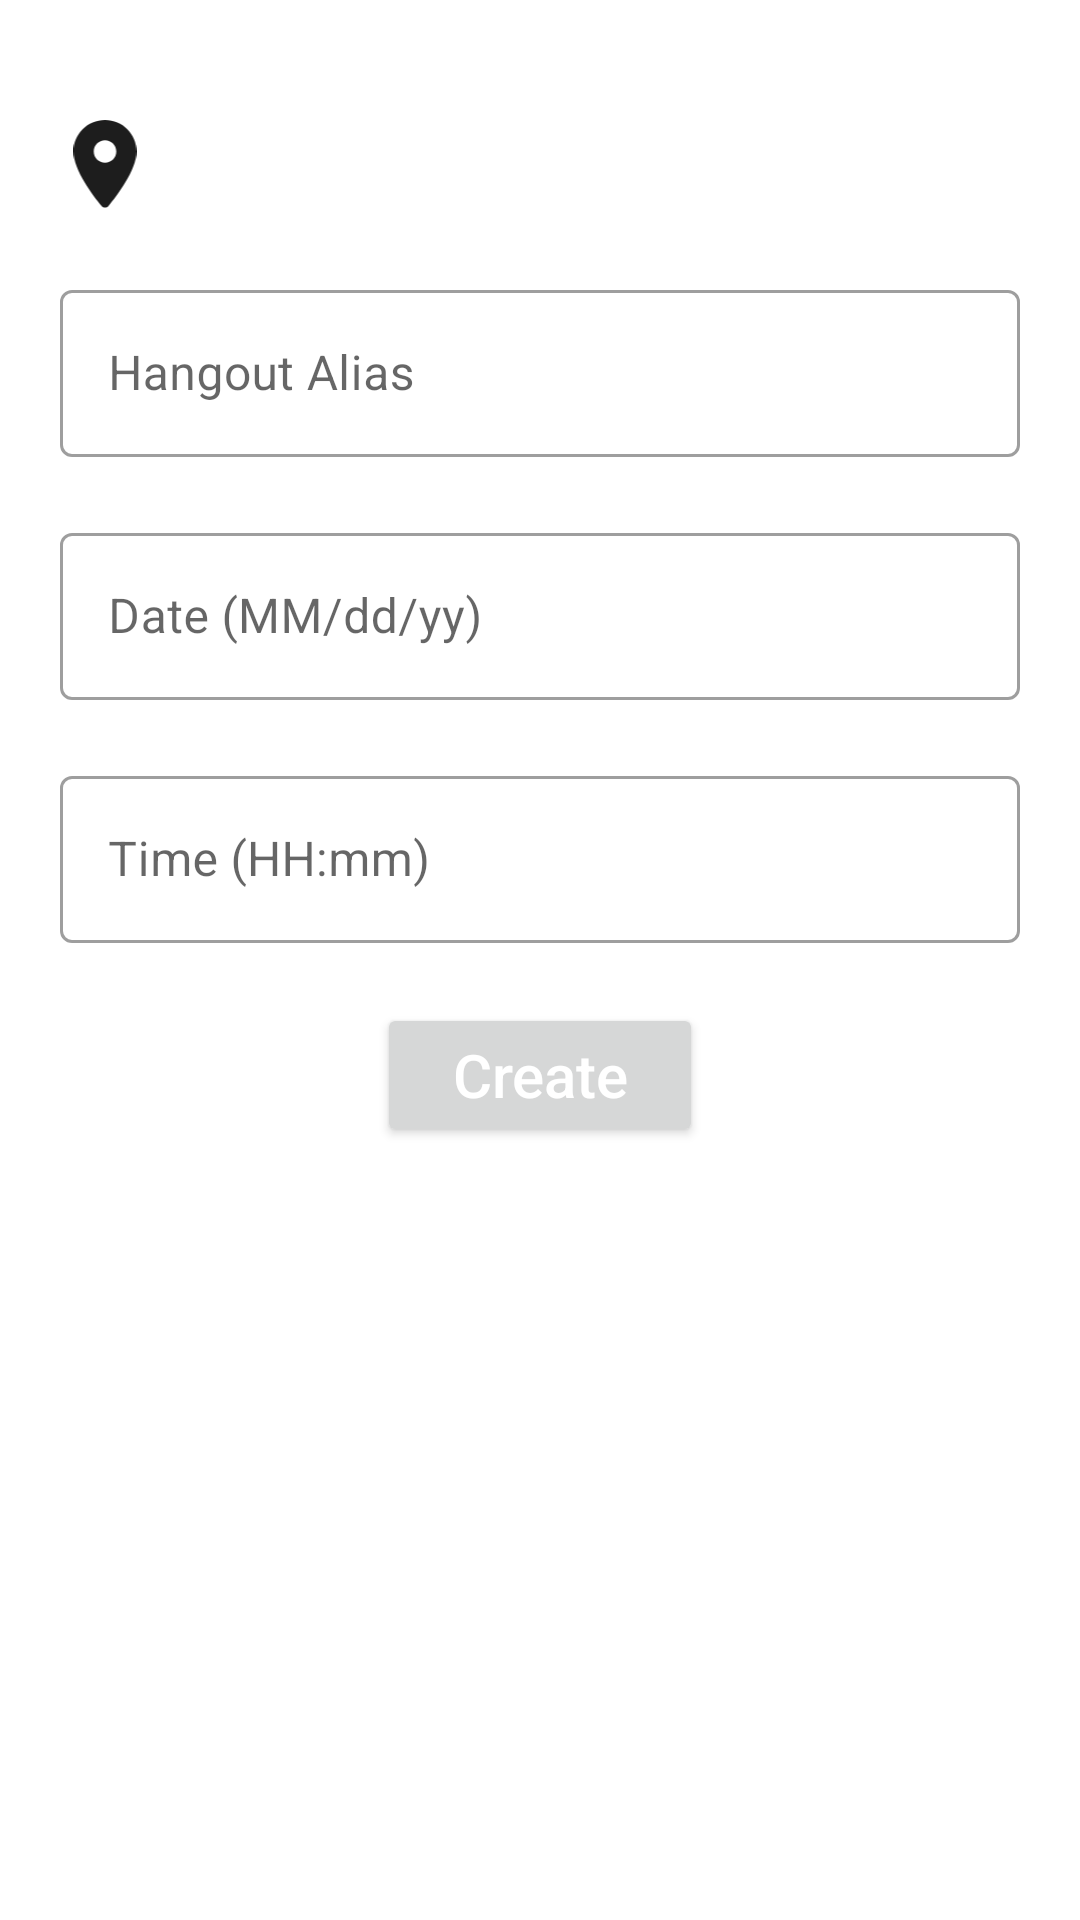

Where to tap for icons on this 1080px×1920px app screen, as [x,y]:
location: [105,164]
